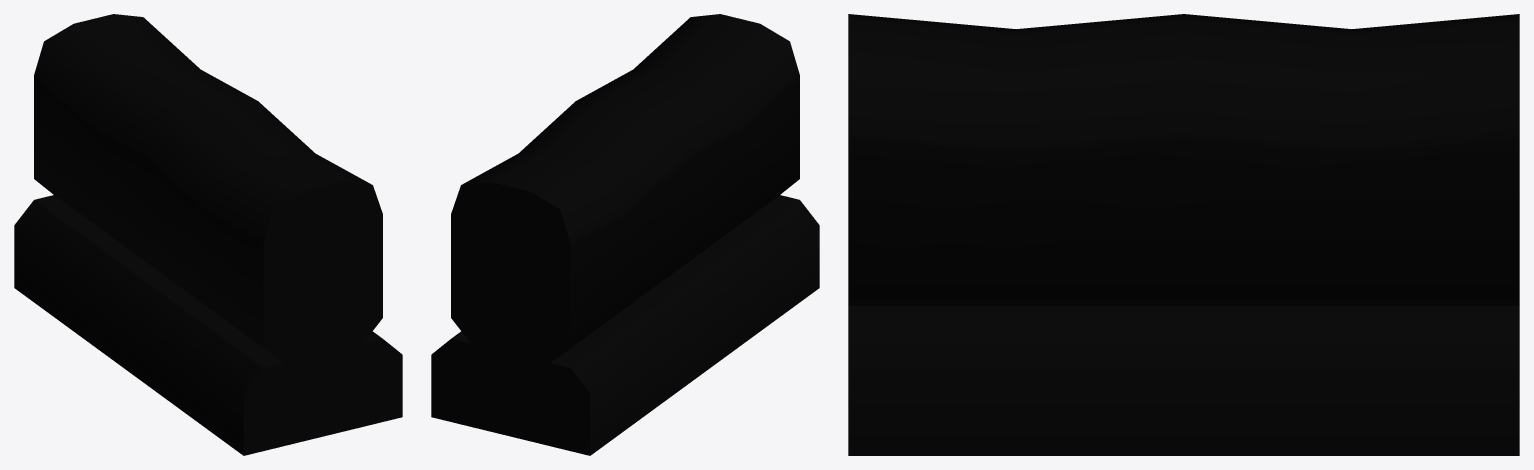
Rendered from hedge-large.glb.
3 views of the same model, side by side, from view 1: azimuth 30°, elevation 25°; view 2: azimuth 150°, elevation 25°; view 3: azimuth 270°, elevation 25° (orthographic). The views are drawn at different scales.
Parts seen in each view (by area): view 1: hedge-large; view 2: hedge-large; view 3: hedge-large.
Boxes of the visible parts, x1=… form: hedge-large: x1=14, y1=14, x2=402, y2=455; hedge-large: x1=431, y1=14, x2=819, y2=455; hedge-large: x1=848, y1=14, x2=1519, y2=455.
Bounding box in the file's own units: 0.3999 × 0.6001 × 1.
1 material, 1 textured.
